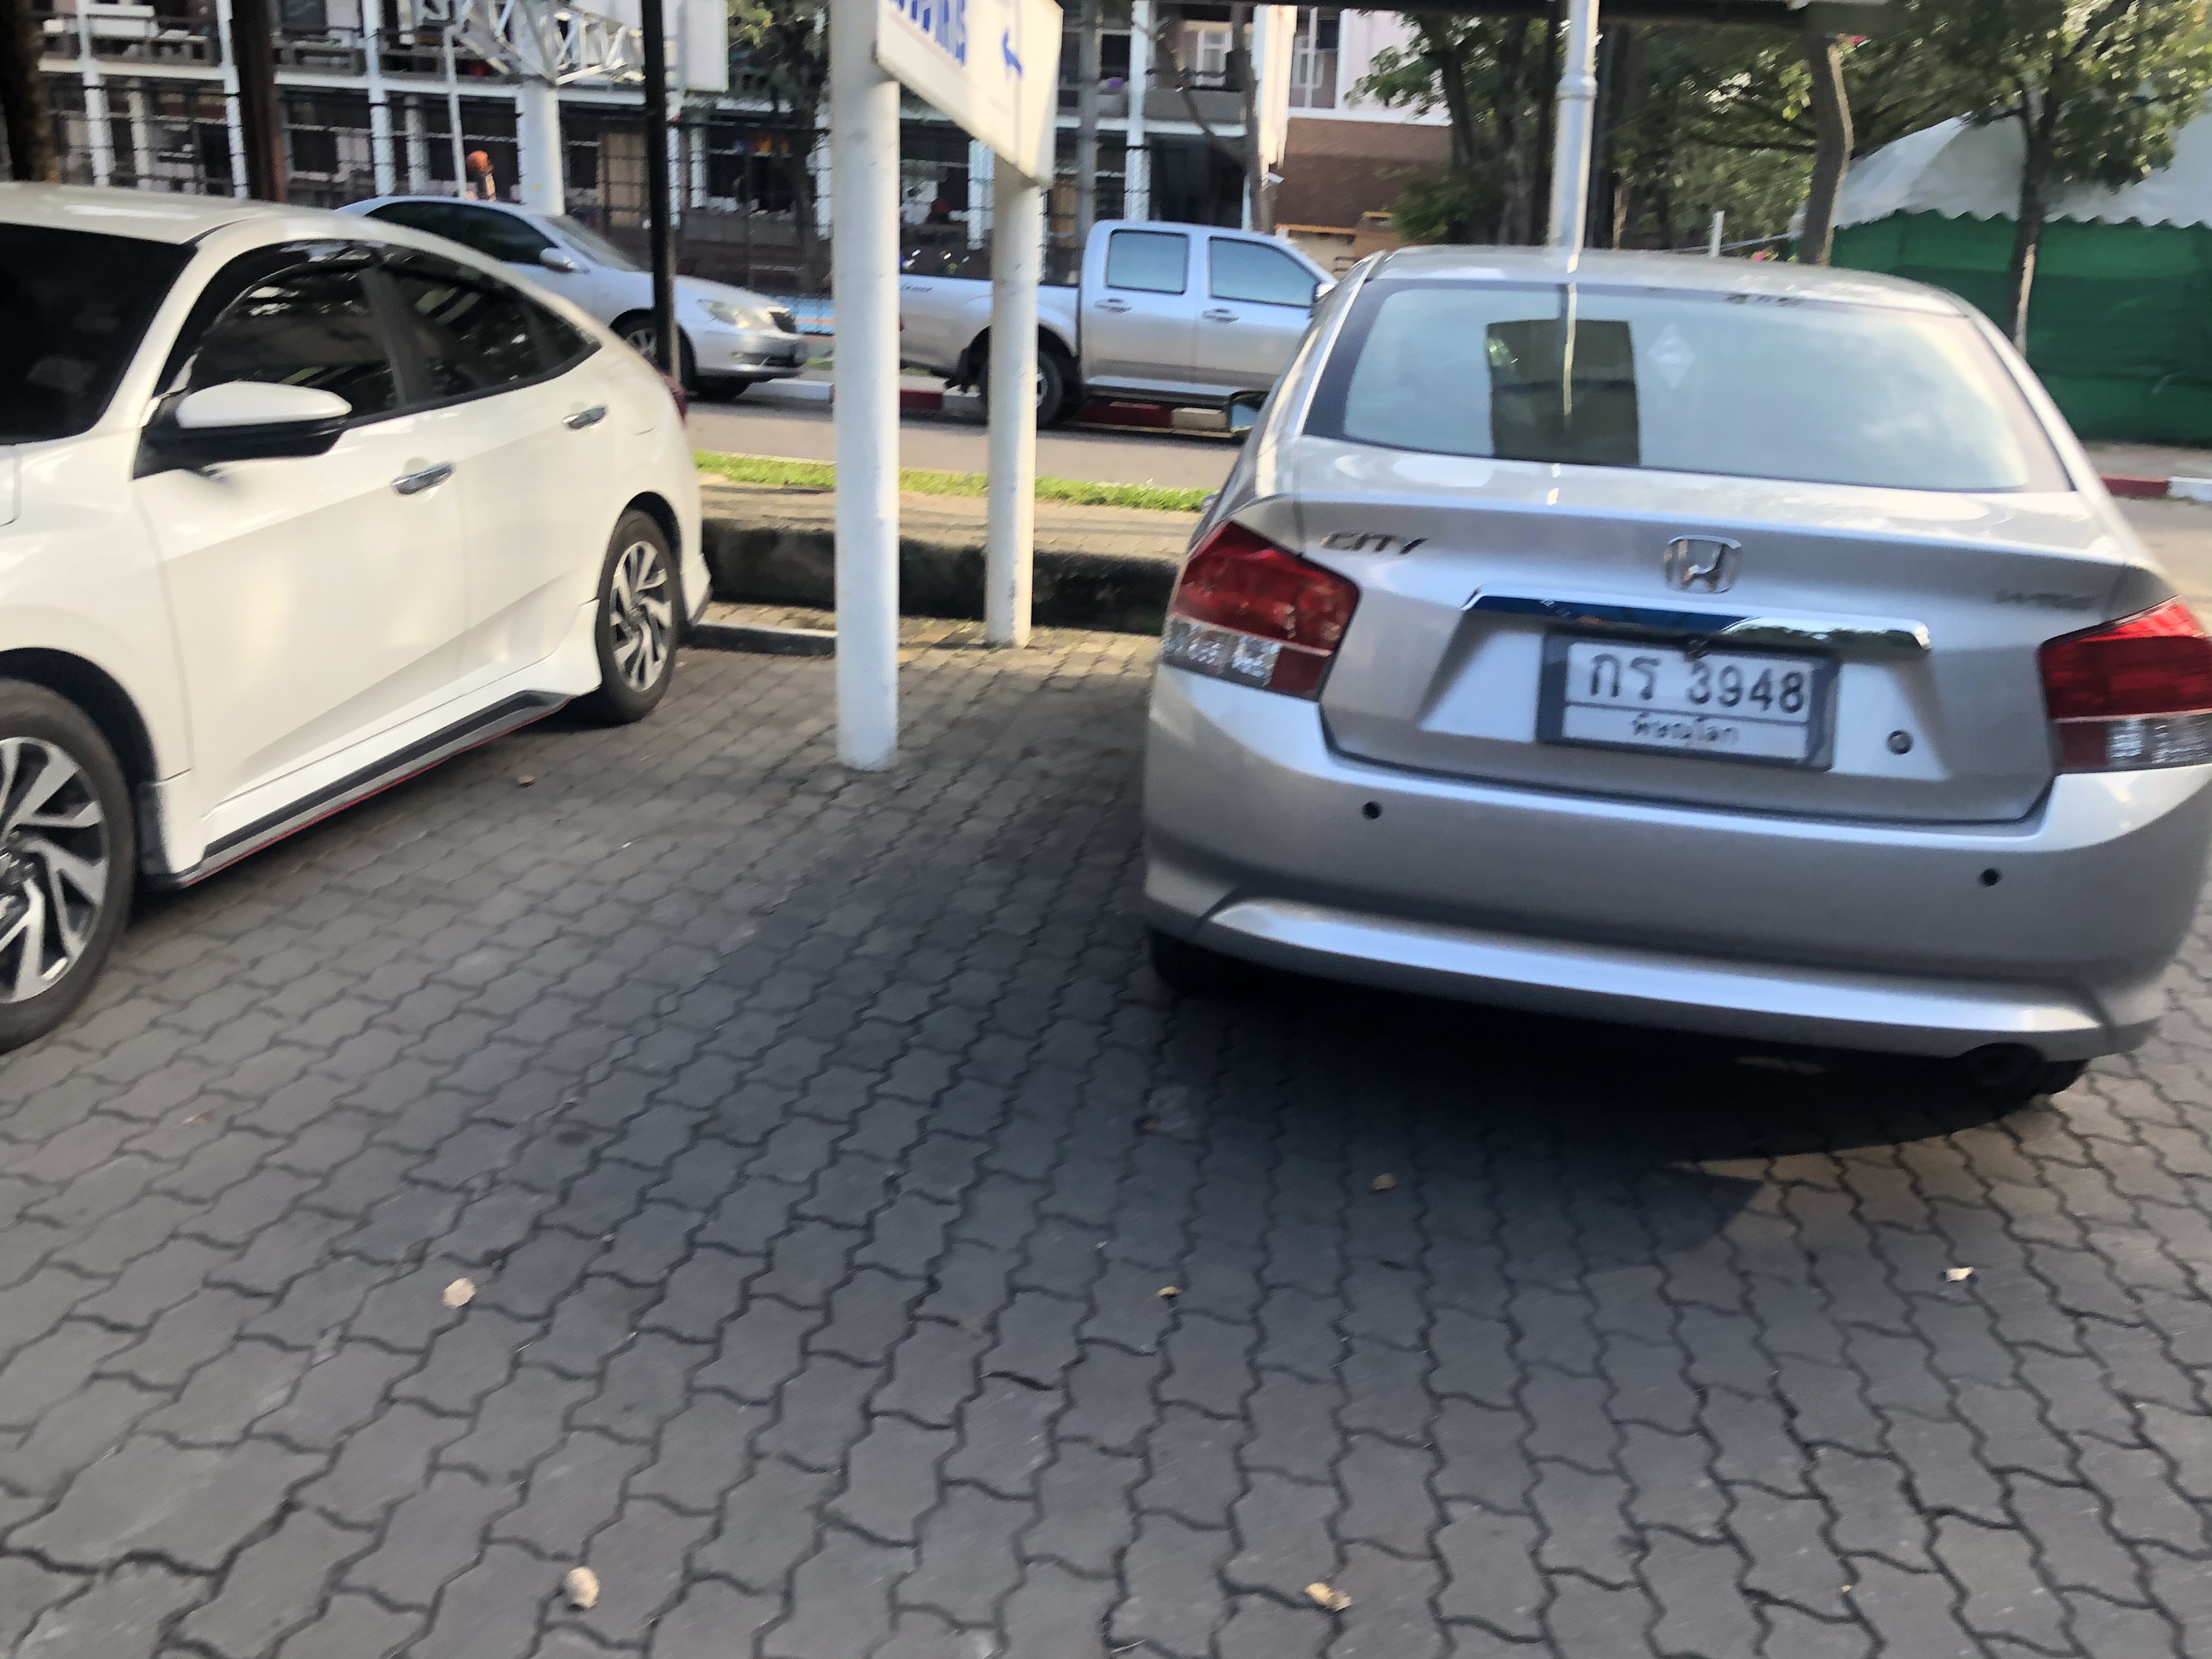in: (1566, 641, 1811, 758)
out: (1529, 629, 1843, 777)
